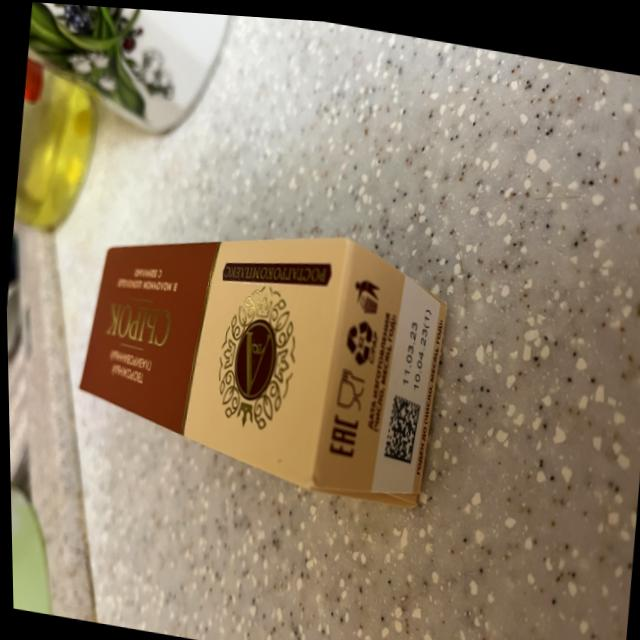datamatrix: (381, 387, 421, 459)
